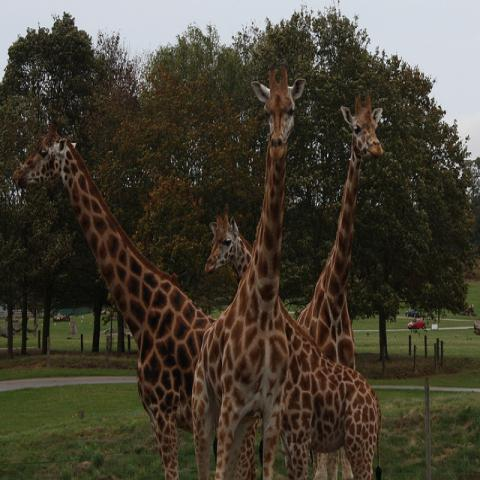car: (408, 318, 425, 330), (405, 308, 422, 318)
